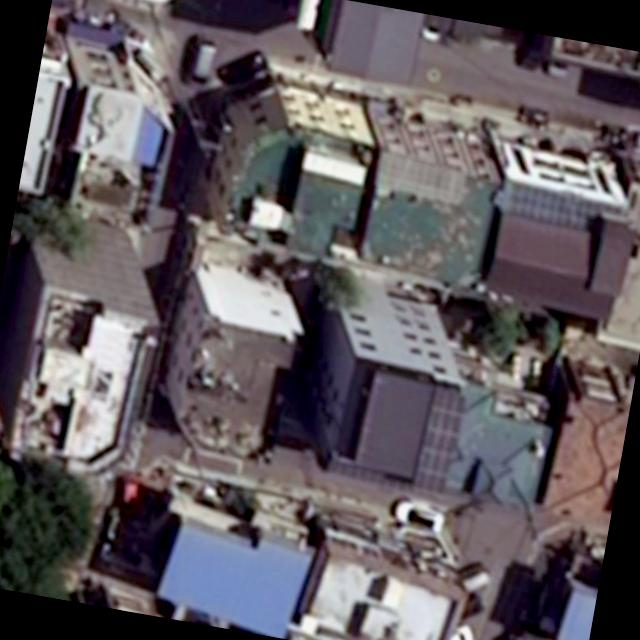solar: (408, 385, 468, 500)
